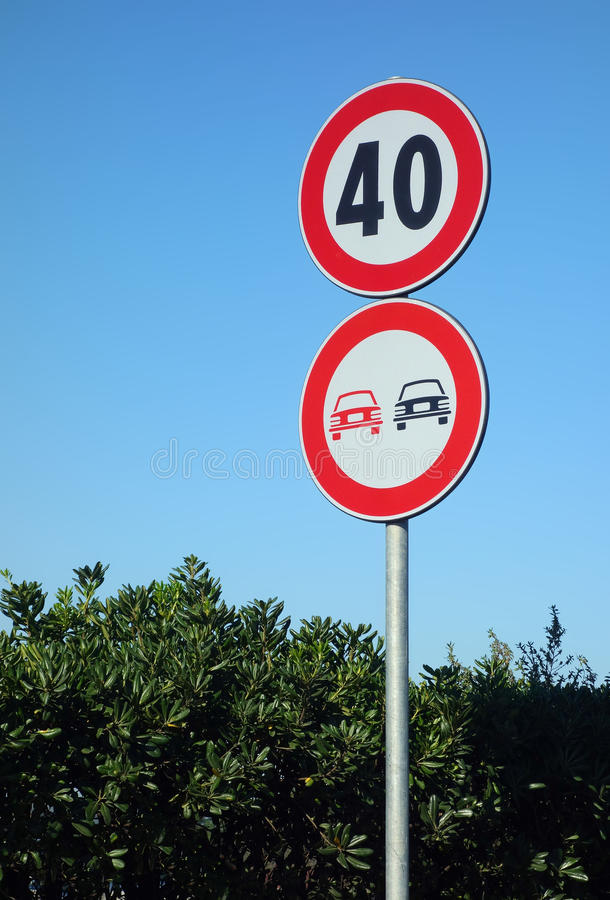Speed_limit_40km: (296, 78, 493, 297)
